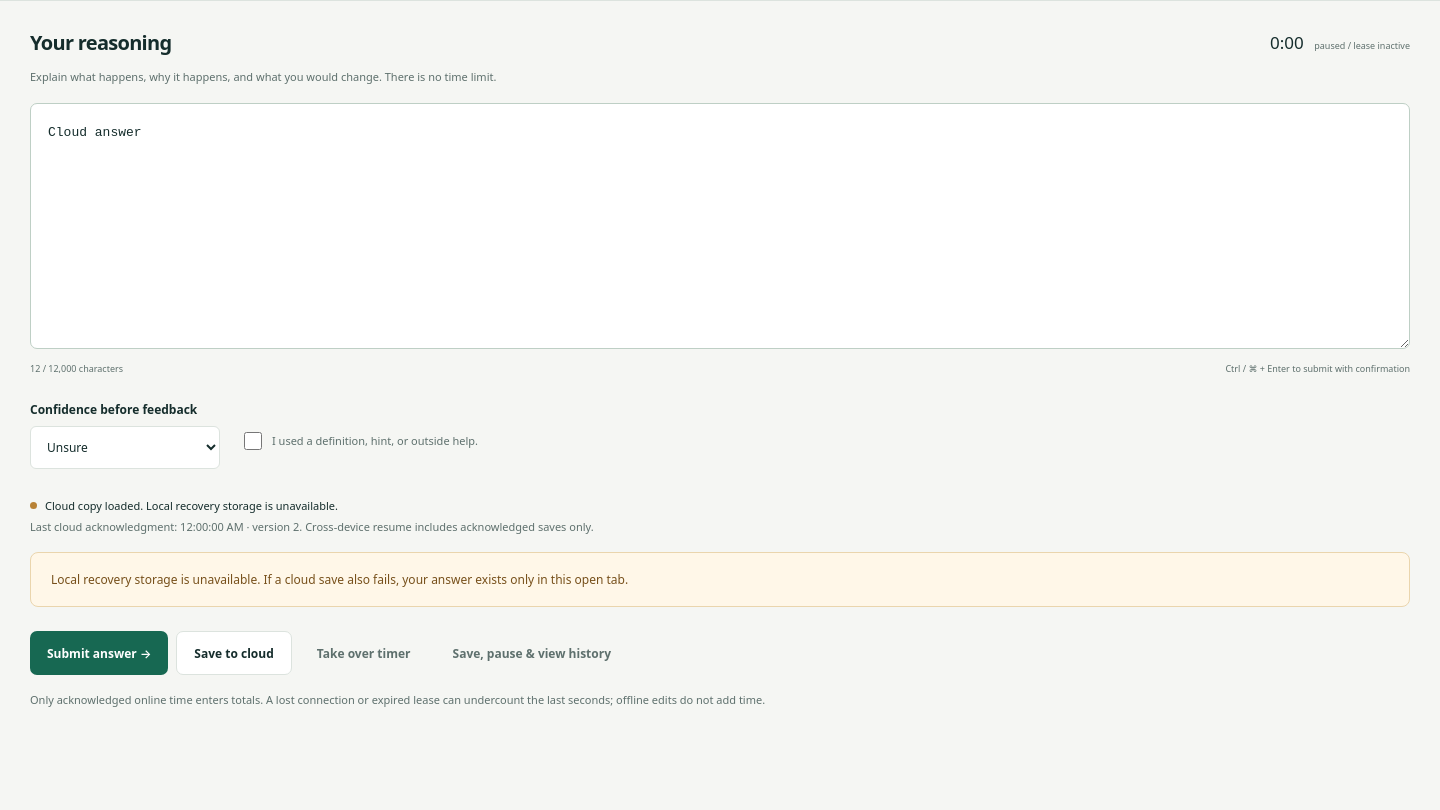
it: keeps cloud save available when IndexedDB is unavailable
Expected: the text "Local recovery storage is unavailable. If a cloud save also fails, your answer exists only in this open tab." is shown, top-left (51, 571), bottom-right (628, 588)
Click the button "Save to cloud". click: (234,653)
box: top-left (176, 631), bottom-right (292, 675)
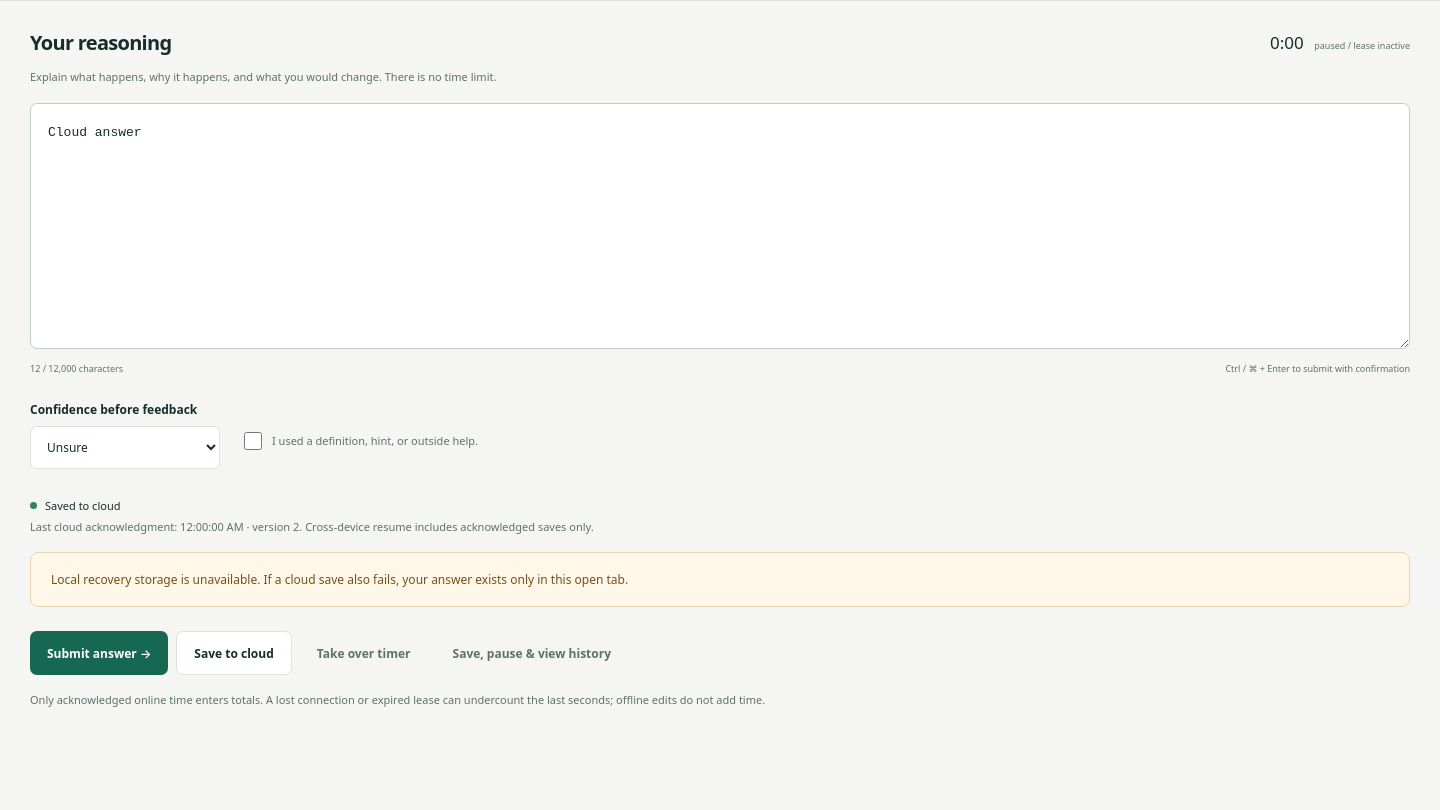
Expected: the text "Saved to cloud" is shown, top-left (30, 498), bottom-right (120, 513)
